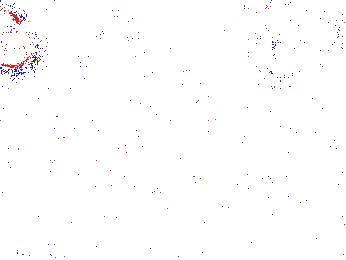moon jellyfish: (246, 1, 346, 89), (90, 16, 149, 99), (126, 1, 223, 41), (10, 6, 104, 44), (1, 3, 38, 78)
